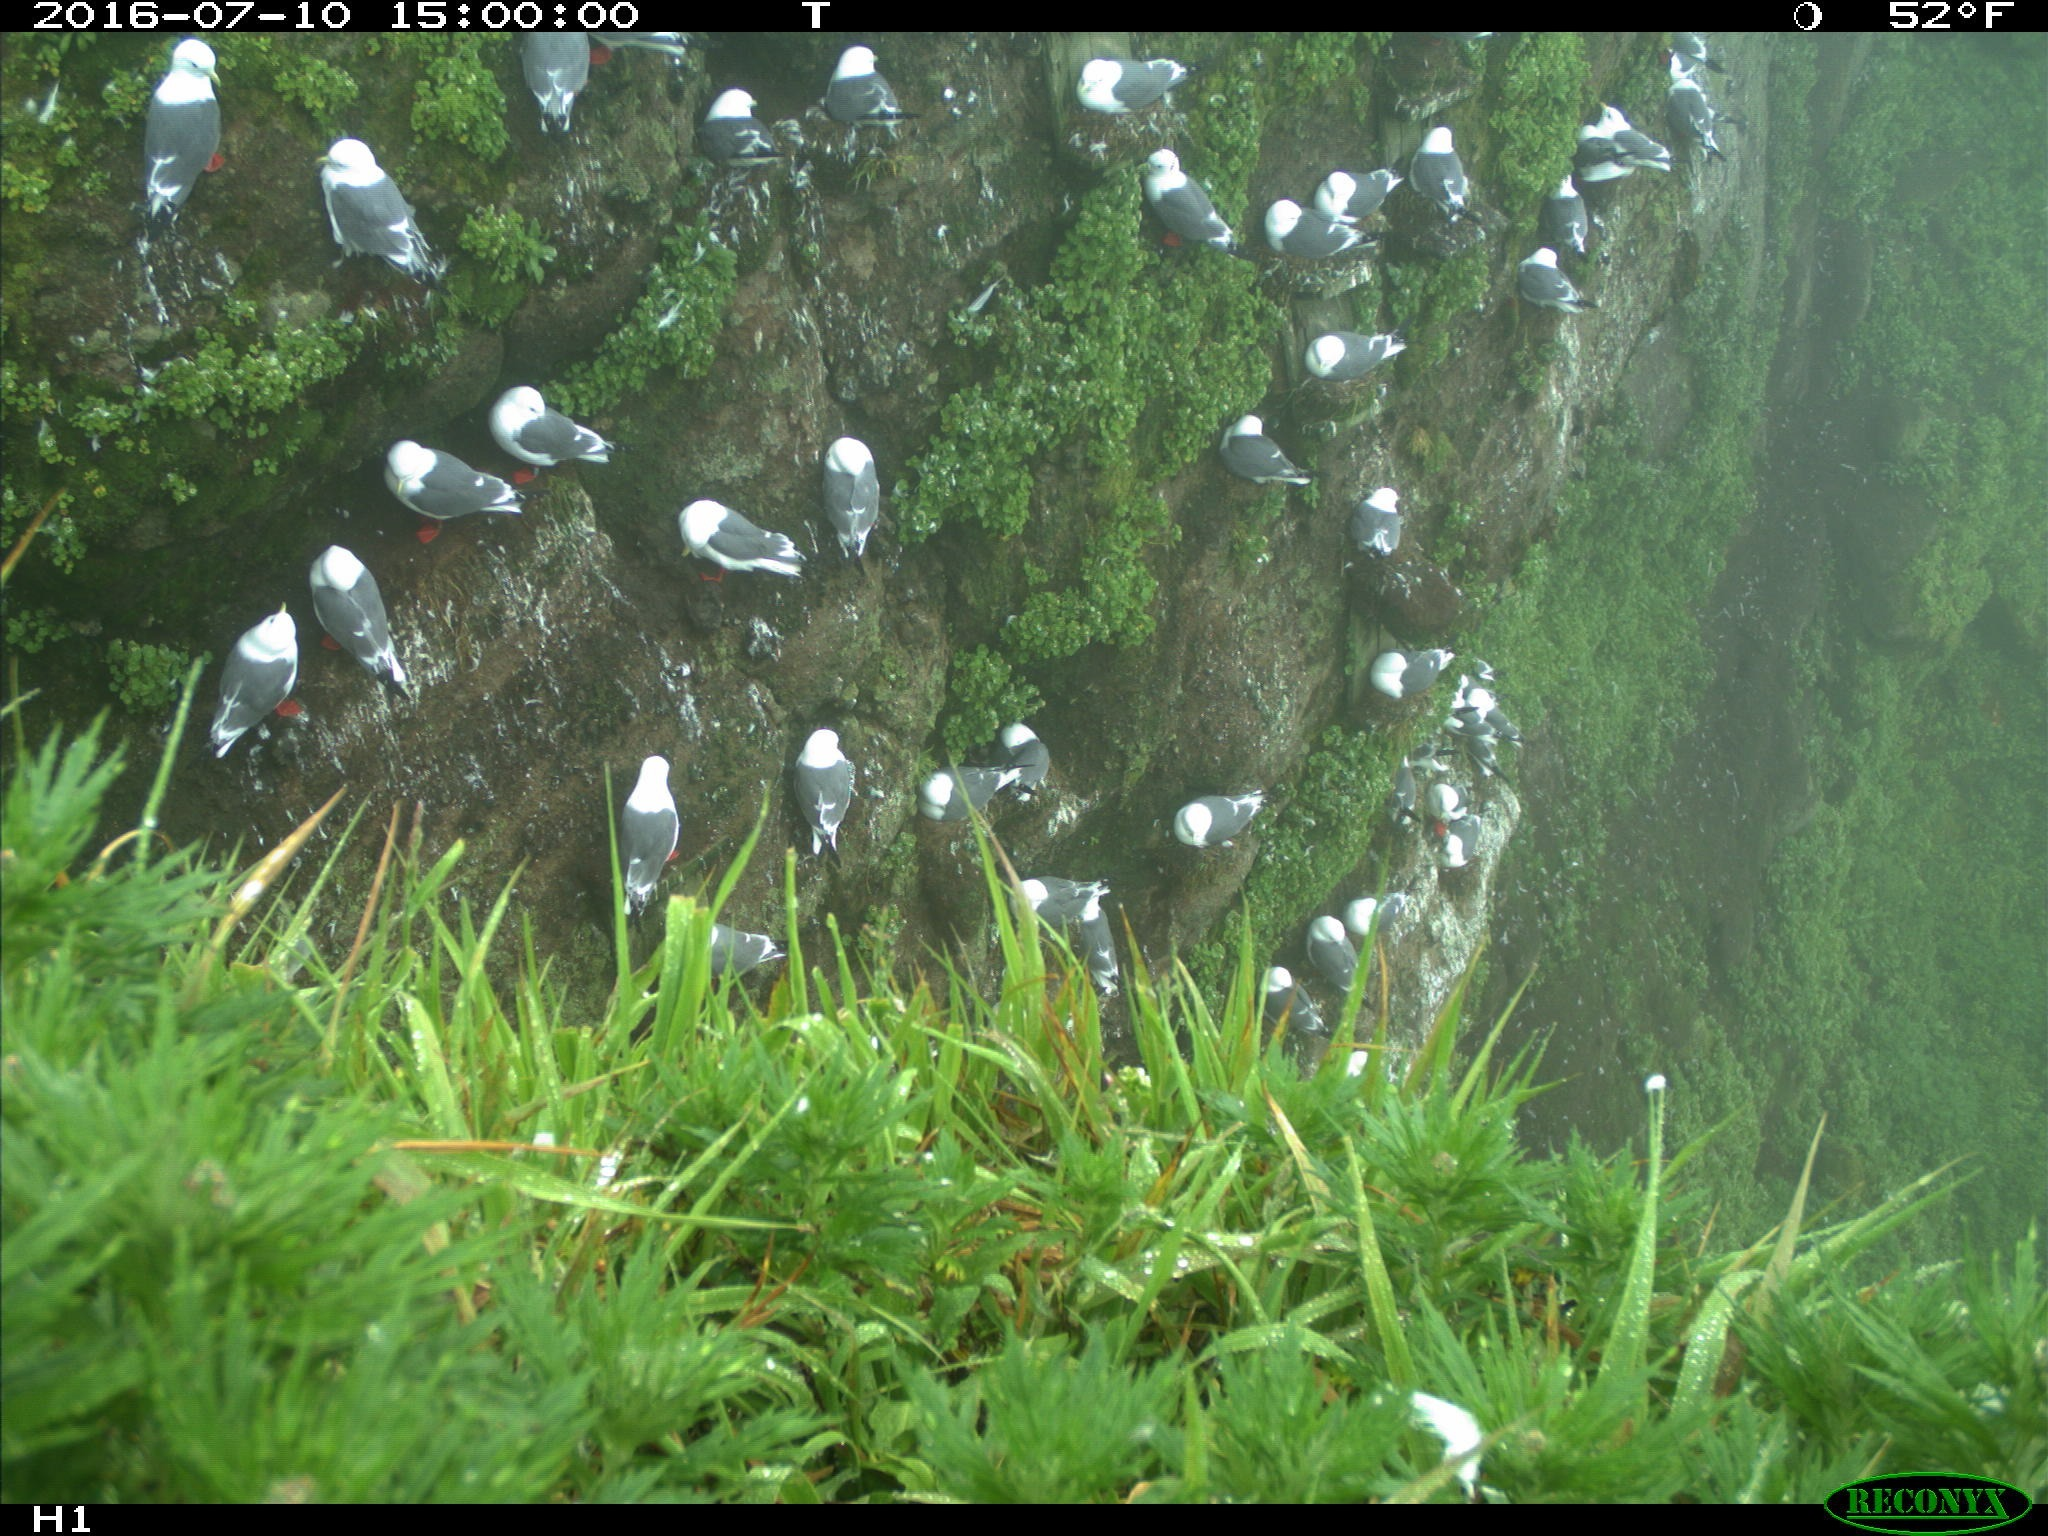Kittiwake: (114, 24, 276, 231), (303, 119, 460, 292), (197, 587, 327, 765), (305, 513, 423, 700), (668, 471, 821, 613), (371, 413, 534, 545), (476, 363, 634, 490), (605, 729, 690, 913), (1118, 140, 1245, 261), (810, 408, 895, 579), (811, 31, 926, 153), (780, 703, 866, 863), (1055, 32, 1193, 127), (1201, 394, 1324, 500), (695, 66, 790, 195), (1250, 187, 1392, 269), (1292, 311, 1429, 387), (505, 31, 606, 132), (1400, 97, 1480, 224), (913, 750, 1039, 828), (1658, 47, 1734, 174), (1513, 224, 1596, 337), (685, 900, 792, 989), (1247, 942, 1335, 1047), (1342, 458, 1426, 566), (1161, 778, 1284, 850), (1588, 79, 1679, 177), (1056, 886, 1130, 999), (1300, 895, 1376, 1004), (1359, 629, 1463, 708), (1366, 744, 1455, 836), (1295, 160, 1416, 224), (992, 697, 1055, 816), (1417, 763, 1485, 871), (1550, 119, 1634, 195), (1430, 679, 1526, 745), (998, 866, 1113, 921), (1342, 878, 1417, 947), (1458, 721, 1517, 808), (1534, 168, 1592, 253), (1643, 31, 1730, 77), (593, 24, 693, 65)
